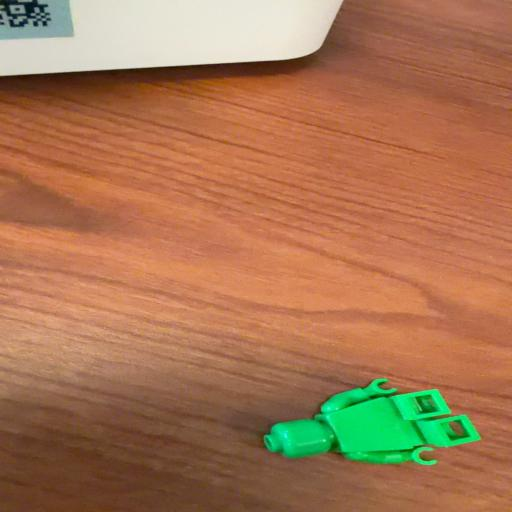UnoQ-minifig-detector: (264, 378, 480, 466)
